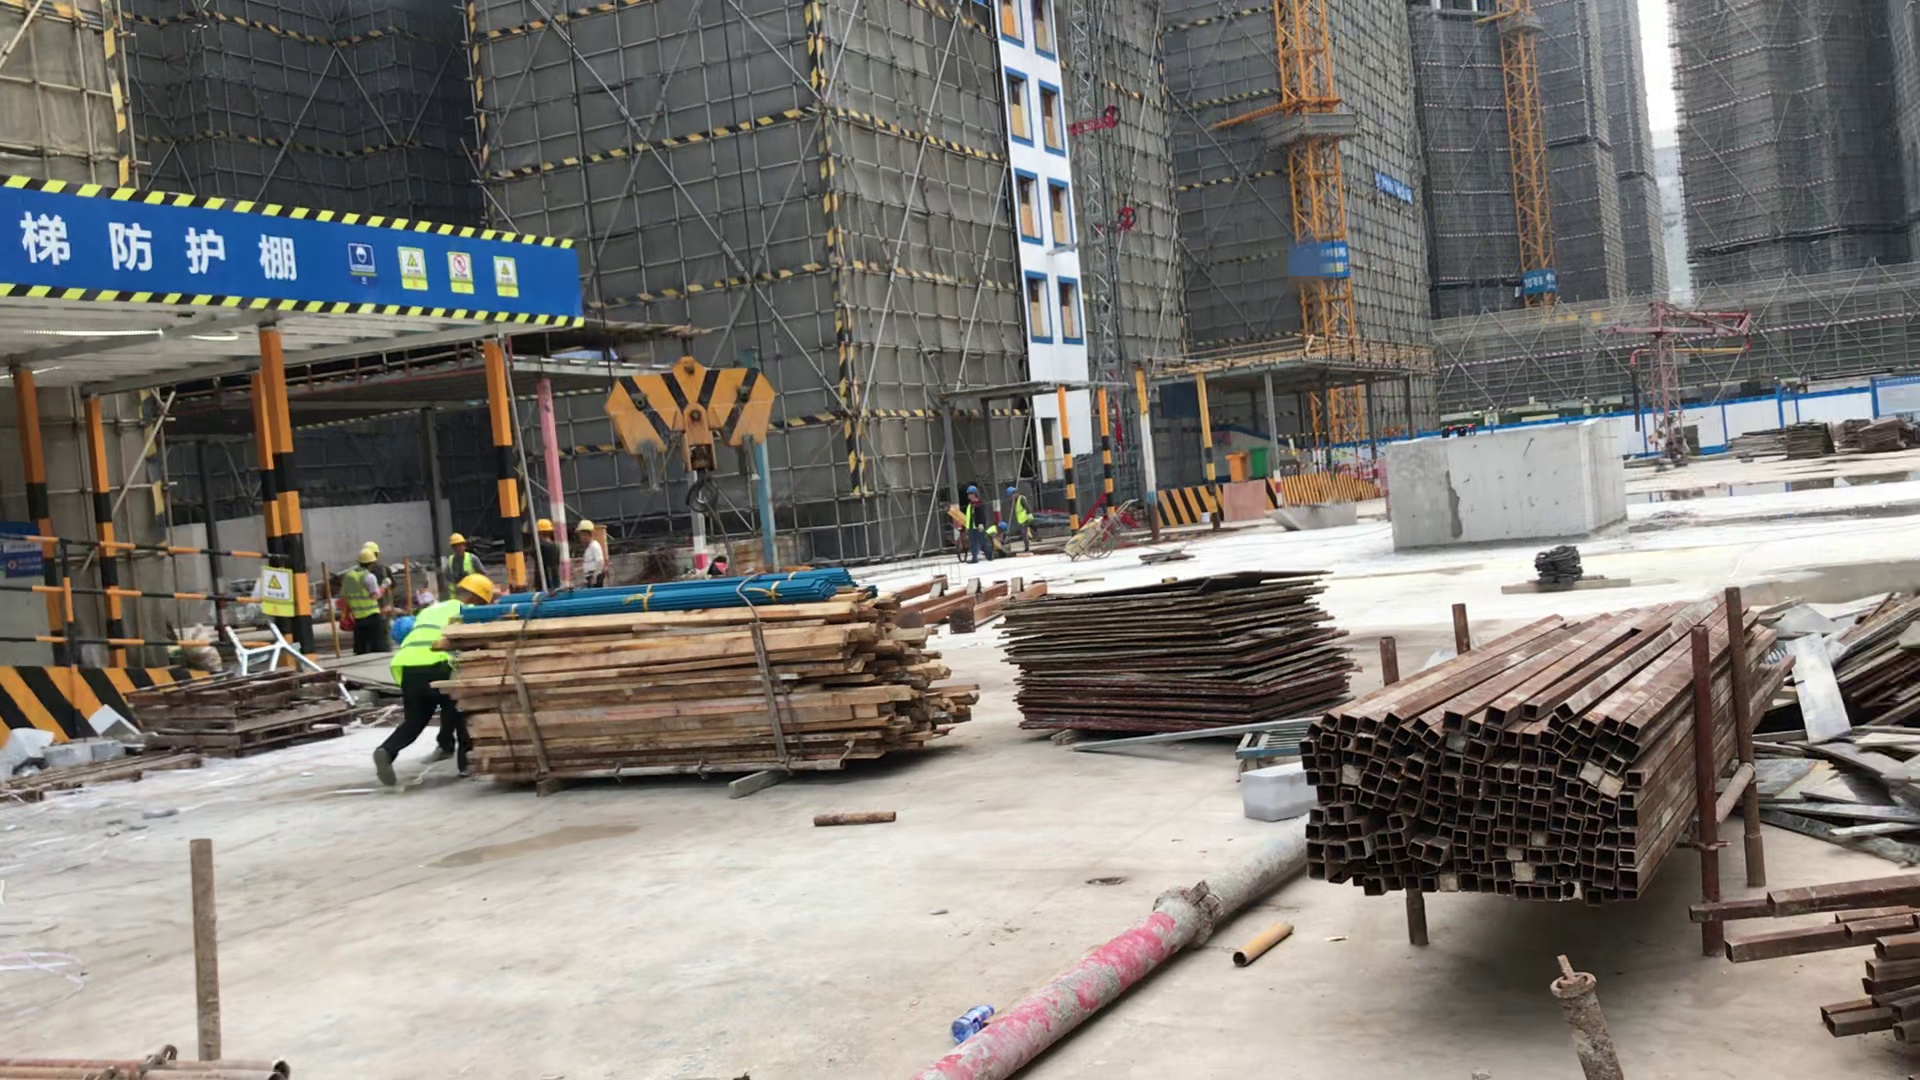board: (1008, 573, 1342, 730)
ebox: (1225, 449, 1242, 480)
handcart: (1065, 524, 1117, 557)
helmet: (456, 575, 494, 606), (358, 551, 377, 566), (534, 520, 552, 533), (448, 533, 466, 546), (576, 519, 594, 533), (1006, 486, 1015, 496), (966, 487, 977, 495), (998, 522, 1006, 530)
hook: (605, 357, 779, 515)
hopper: (1267, 500, 1362, 531)
person: (377, 575, 490, 780), (344, 553, 389, 649), (444, 535, 483, 596), (958, 487, 986, 561), (574, 519, 605, 585), (531, 519, 561, 591), (1006, 489, 1035, 553)
scaffold: (1309, 612, 1792, 901)
slogan: (343, 241, 519, 303), (259, 560, 292, 614), (1373, 176, 1417, 203)
vest: (388, 607, 458, 668), (347, 572, 379, 616), (449, 553, 474, 579), (1012, 497, 1028, 525)
wood: (458, 622, 963, 773)
